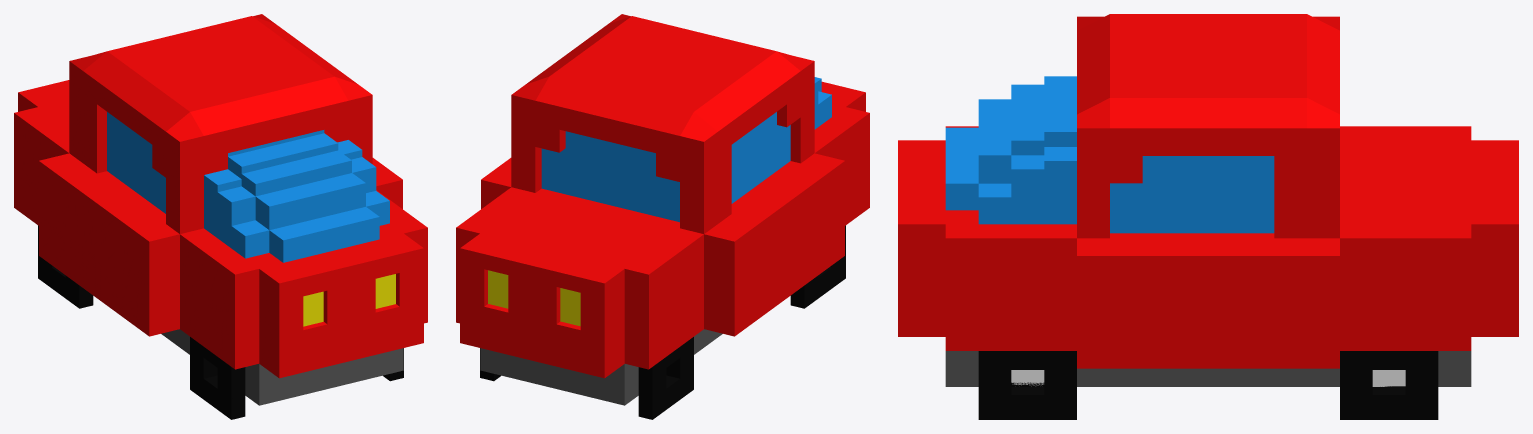
The model's file is smallRedCar.fbx.
3 views of the same model, side by side, from view 1: azimuth 30°, elevation 25°; view 2: azimuth 150°, elevation 25°; view 3: azimuth 270°, elevation 25° (orthographic). The views are drawn at different scales.
Visible parts, largest first — view 1: Cube; view 2: Cube; view 3: Cube.
Part boxes in pixels (x1,y1,x2,y2): Cube: (14,14,427,419); Cube: (456,14,869,419); Cube: (898,14,1518,419).
Bounding box in the file's own units: 1009 × 1004 × 1798.
